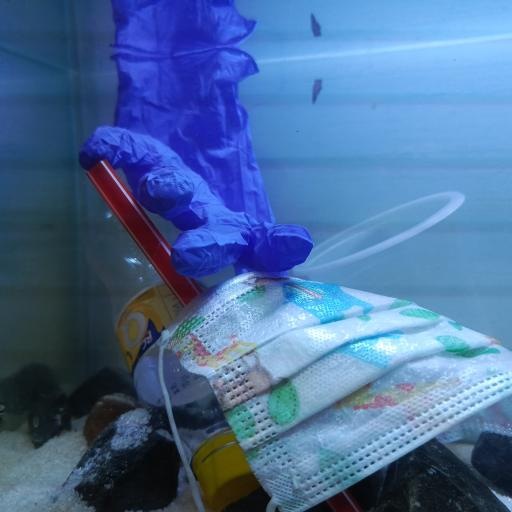bottle_cap: (193, 439, 259, 509)
glove: (80, 46, 315, 277)
mask: (161, 272, 512, 512)
plastic_bottle: (80, 209, 261, 509)
plastic_cup: (292, 190, 496, 338)
plastic_straw: (82, 158, 364, 512)
